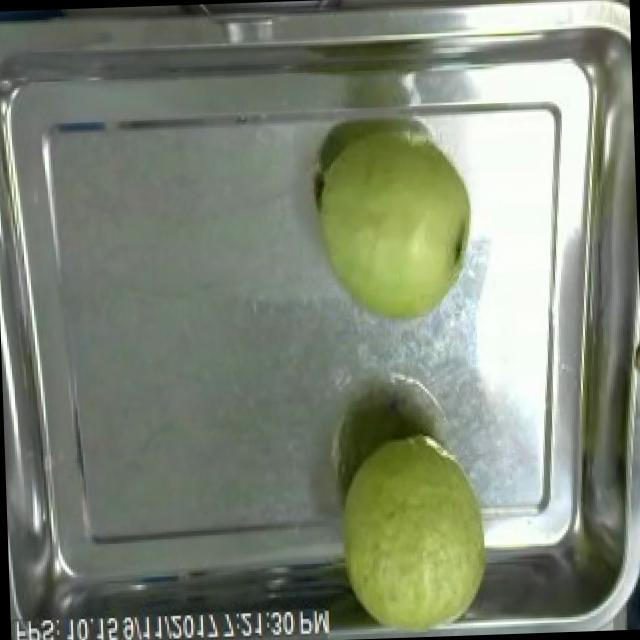Fruit: (302, 124, 484, 336), (326, 423, 499, 638)
